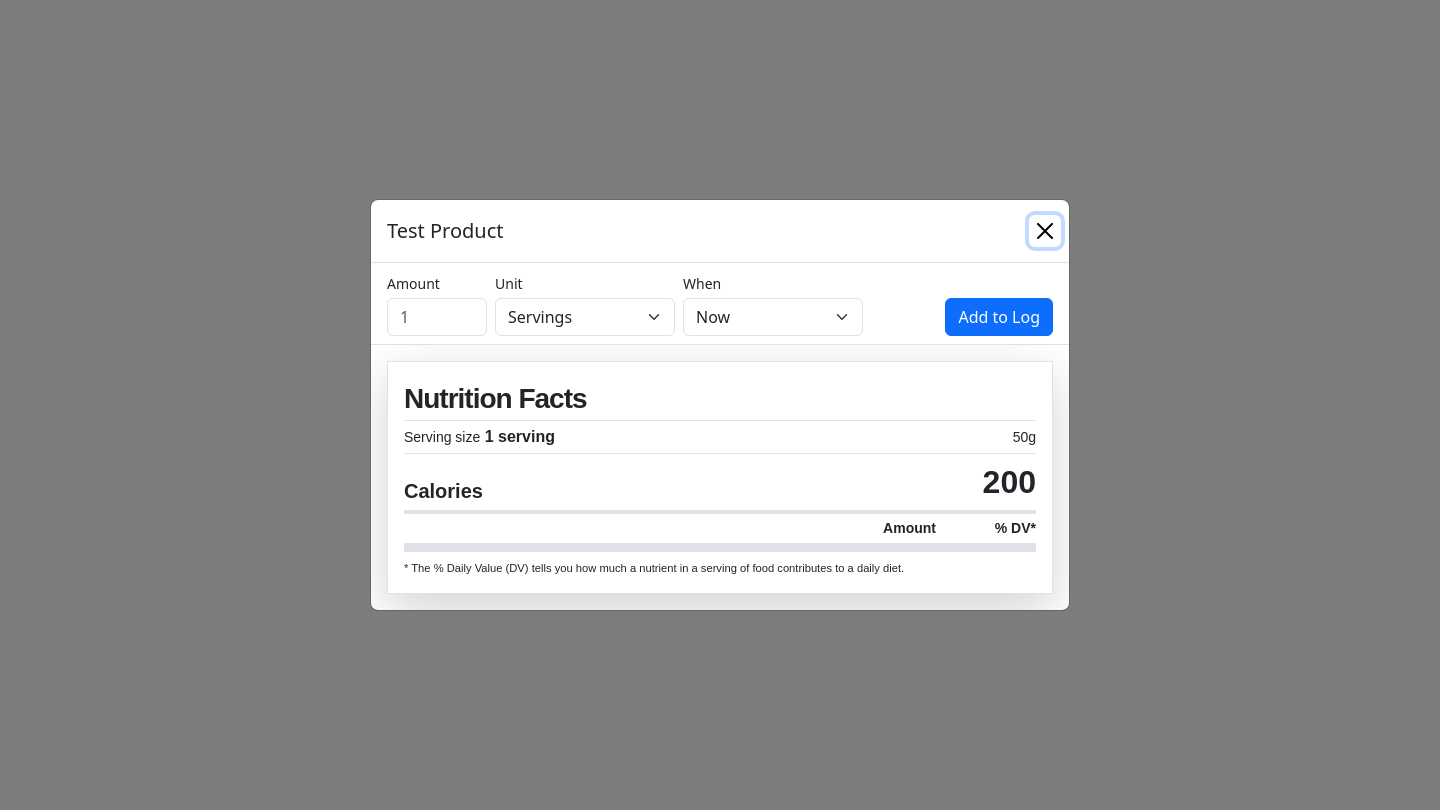
Test case: LogModal › shows error when log fails
This screenshot has width=1440, height=810.
Click the button "Add to Log".
click(999, 317)  # box left=945, top=298, right=1053, bottom=336
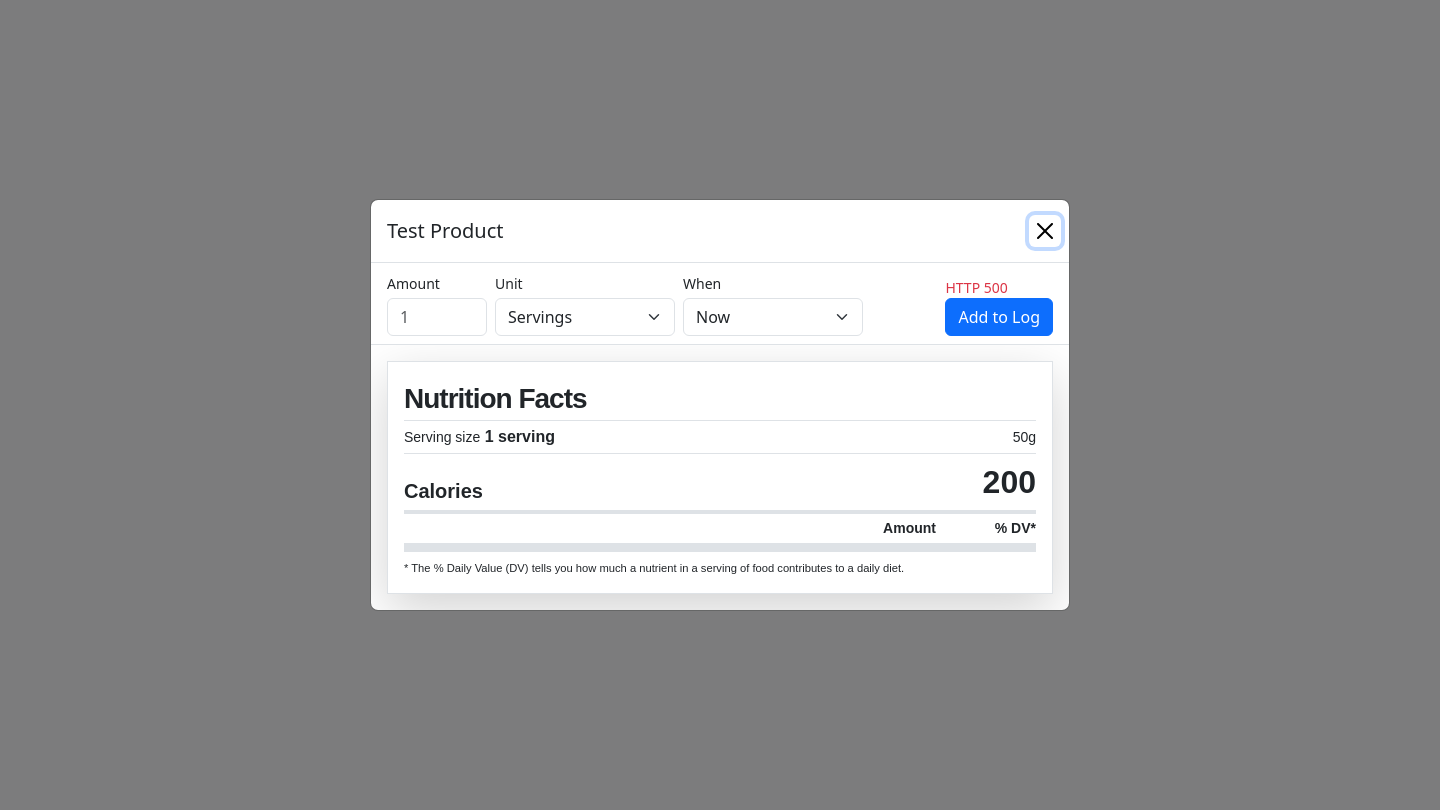
Now the text "HTTP 500" is shown, box left=945, top=278, right=1008, bottom=297
